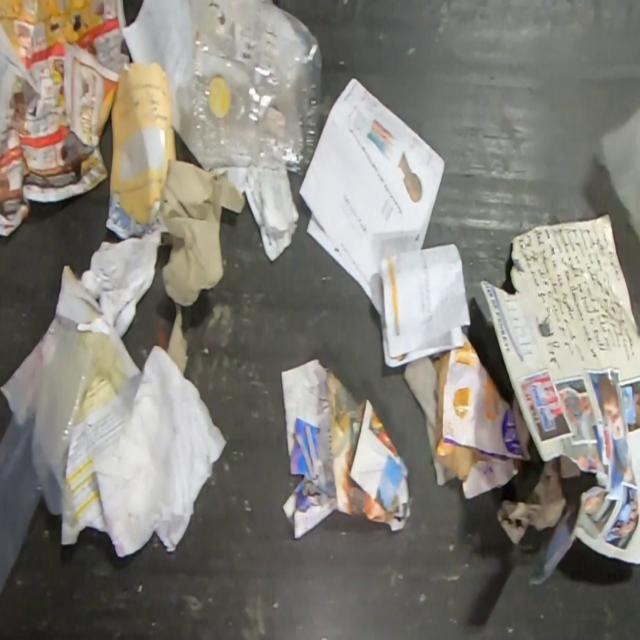rigid_plastic: (186, 0, 324, 174)
soft_plastic: (0, 316, 100, 604), (595, 107, 640, 243)
